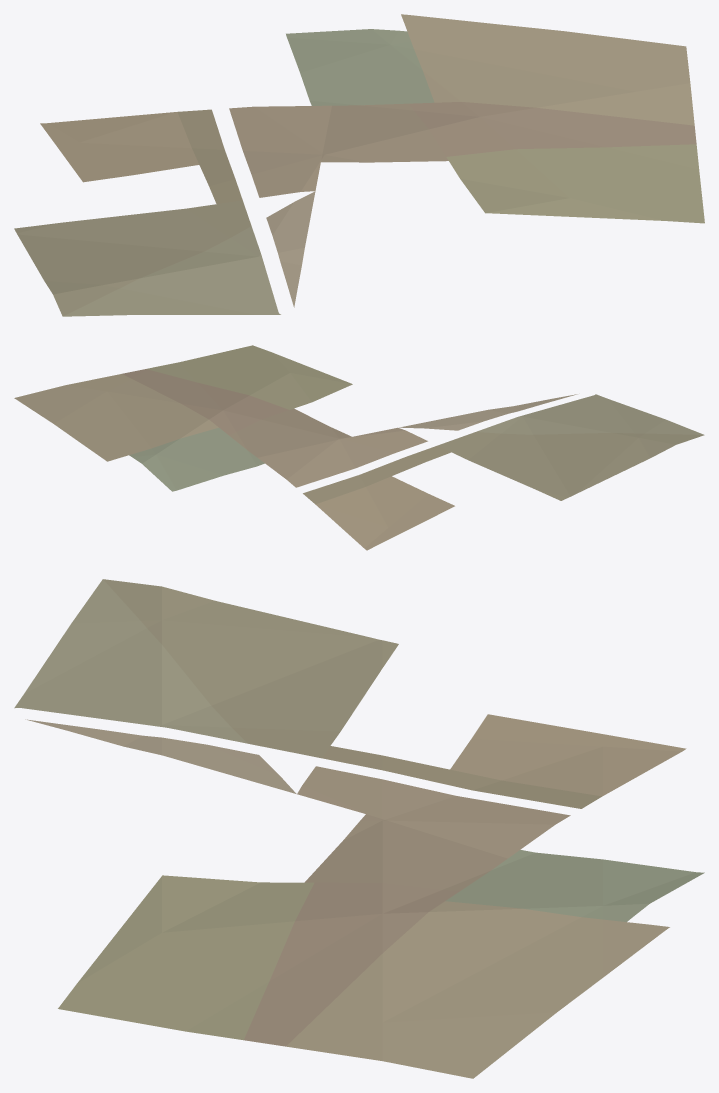
Rendered from farm_-11_-8_soil.glb.
The picture shows the model from 3 angles, top to bottom: view 1: azimuth 30°, elevation 25°; view 2: azimuth 150°, elevation 25°; view 3: azimuth 270°, elevation 25°; orthographic projection. The views are drawn at different scales.
Visible parts, largest first — view 1: geometry_0; view 2: geometry_0; view 3: geometry_0.
Boxes of the visible parts, x1,y1,x2,y2 form: geometry_0: (14, 14, 704, 316); geometry_0: (14, 345, 704, 550); geometry_0: (14, 579, 704, 1078).
Bounding box in the file's own units: 398 × 22.87 × 251.
